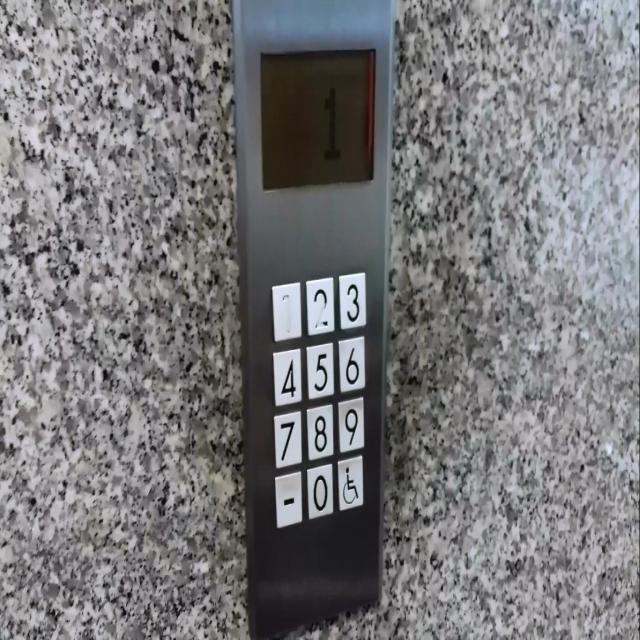-: (274, 470, 301, 527)
0: (306, 464, 333, 518)
1: (270, 278, 301, 342)
2: (304, 276, 335, 336)
3: (338, 270, 367, 328)
4: (272, 348, 301, 405)
5: (306, 342, 332, 398)
6: (337, 335, 365, 393)
7: (273, 408, 302, 468)
8: (306, 402, 334, 460)
9: (336, 395, 364, 454)
CH: (337, 452, 363, 511)
led: (257, 44, 376, 192)
